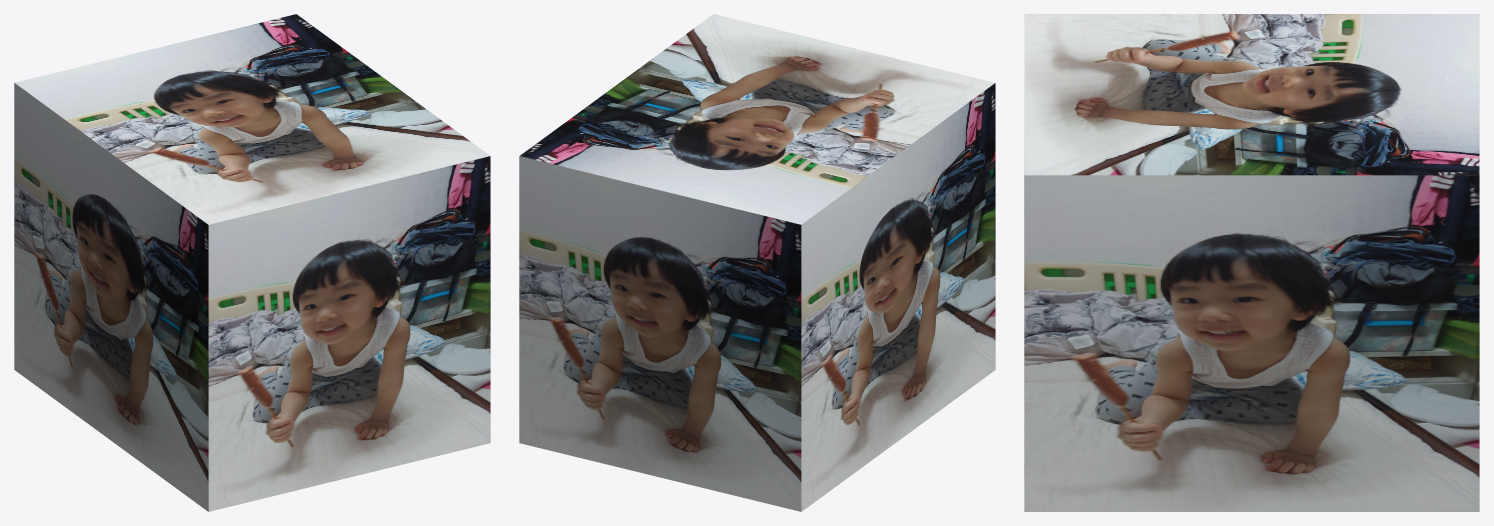
The picture shows the model from 3 angles, left to right: view 1: azimuth 30°, elevation 25°; view 2: azimuth 150°, elevation 25°; view 3: azimuth 270°, elevation 25°; orthographic projection. The views are drawn at different scales.
Parts seen in each view (by area): view 1: Box001; view 2: Box001; view 3: Box001.
Part boxes in pixels (x1,y1,x2,y2): Box001: (14, 14, 490, 511); Box001: (519, 14, 995, 511); Box001: (1024, 14, 1479, 511).
Size of the model in its own units: 25.85 by 25.15 by 30.81.
